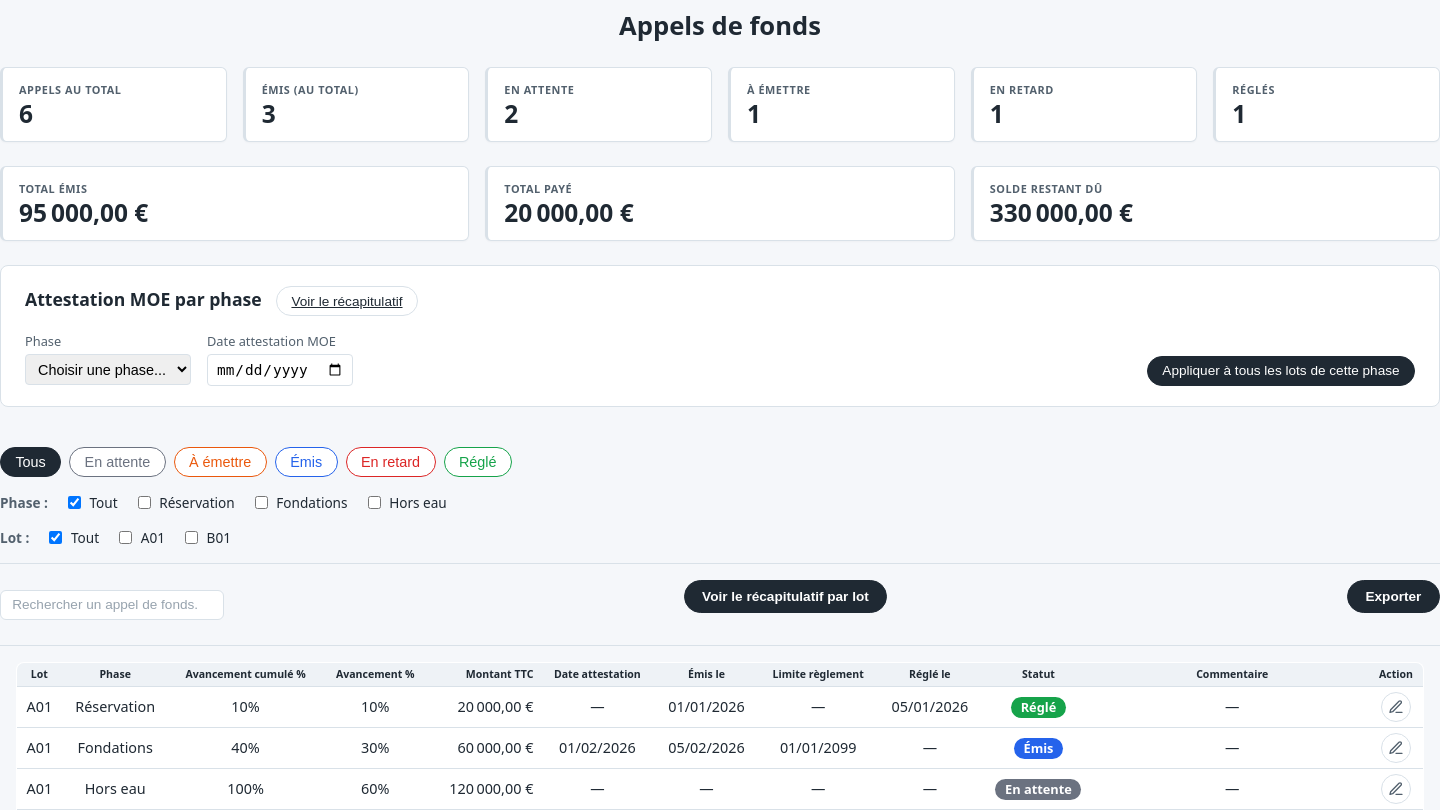
AppelsDeFonds — filtres › filtre par lot (multi)
Click the checkbox labelled "A01": point(126, 538) [119,531,132,544]
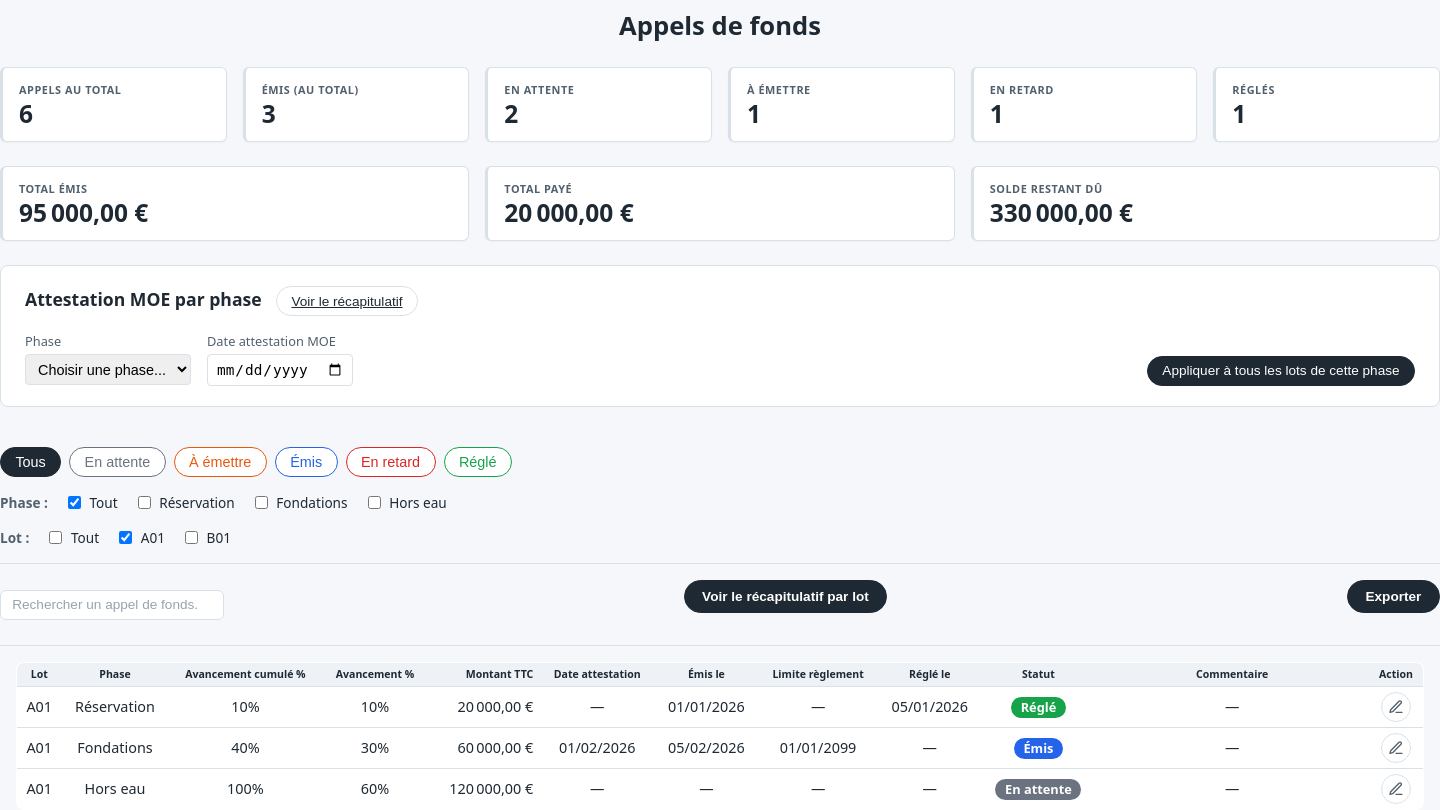
Now the text "A01" is shown 3 times, box [16,687,62,728]; [16,728,62,769]; [16,769,62,809]
